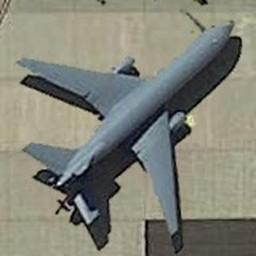Airplane: (15, 10, 242, 254)
